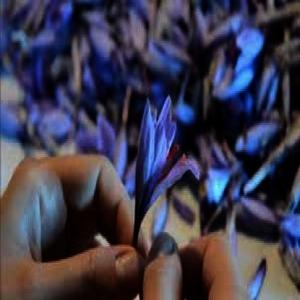Saffron: (134, 97, 197, 227)
